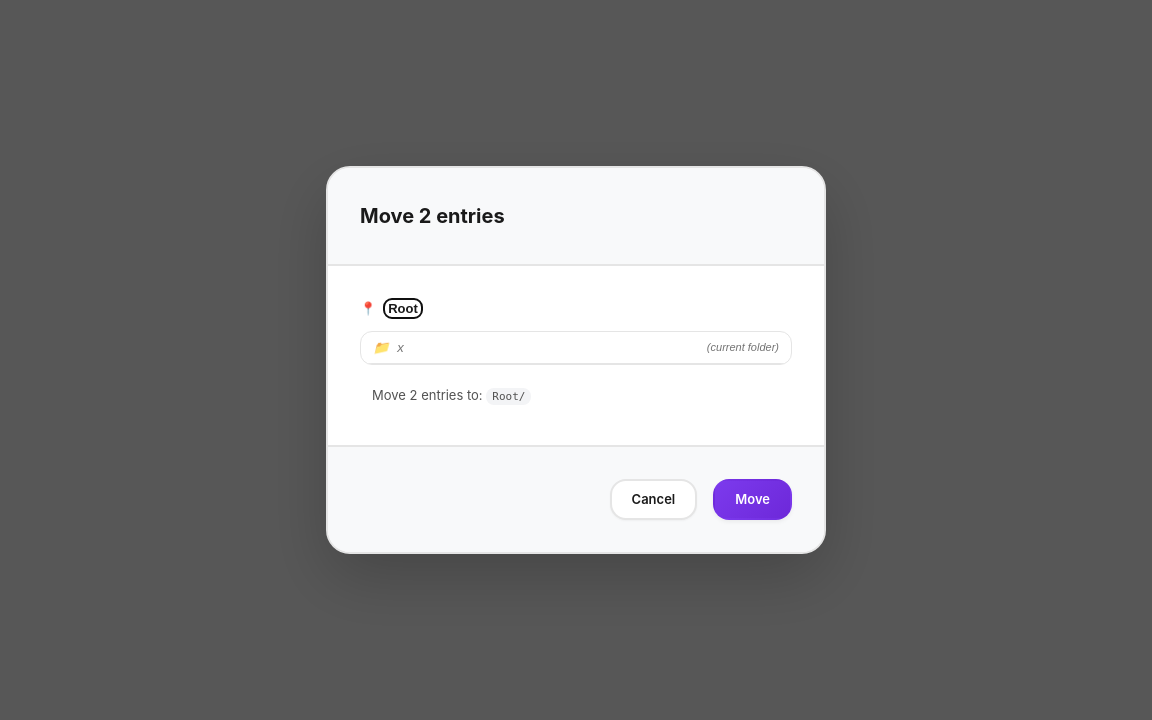
Test case: MoveToFolderModal — libellés traduits › sous-dossier vide et sélection multiple : messages traduits
Click the button "📁 x (current folder)" at (743, 347), box x1=361 y1=332 x2=791 y2=364
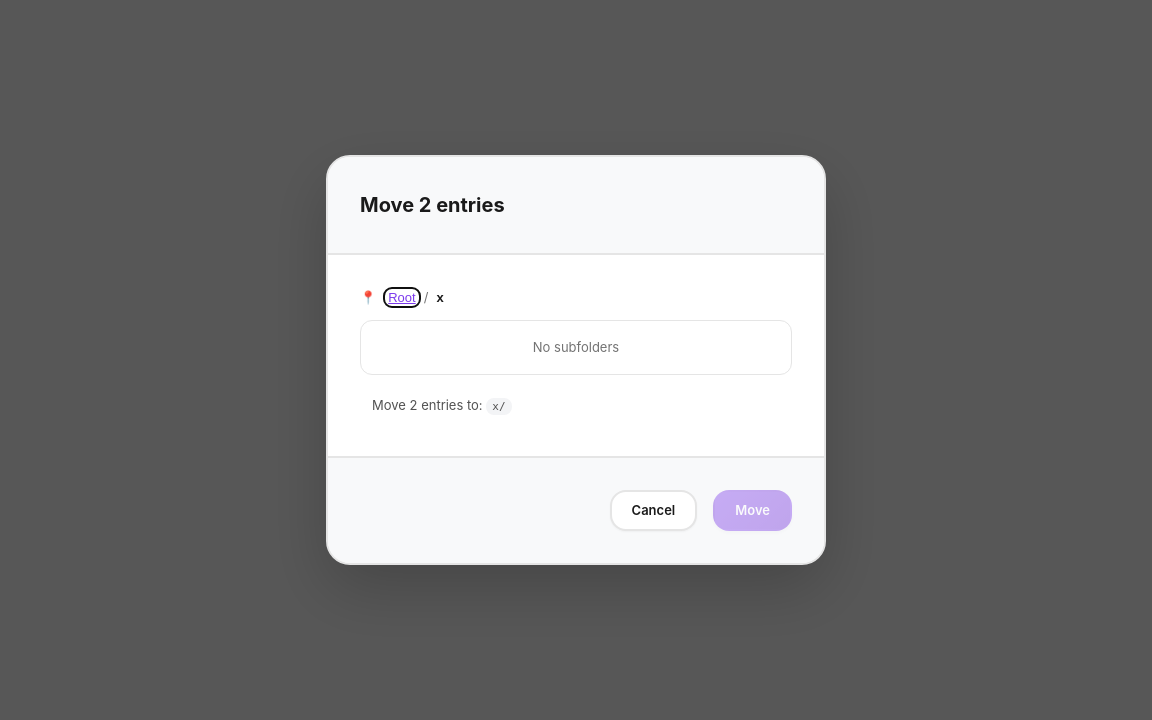
expect the text "No subfolders" is shown: met, box x1=533 y1=339 x2=619 y2=355
